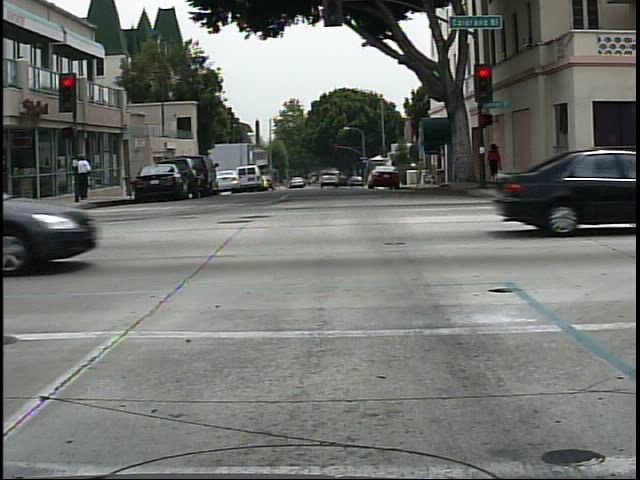person: (480, 138, 510, 191), (79, 151, 98, 202)
